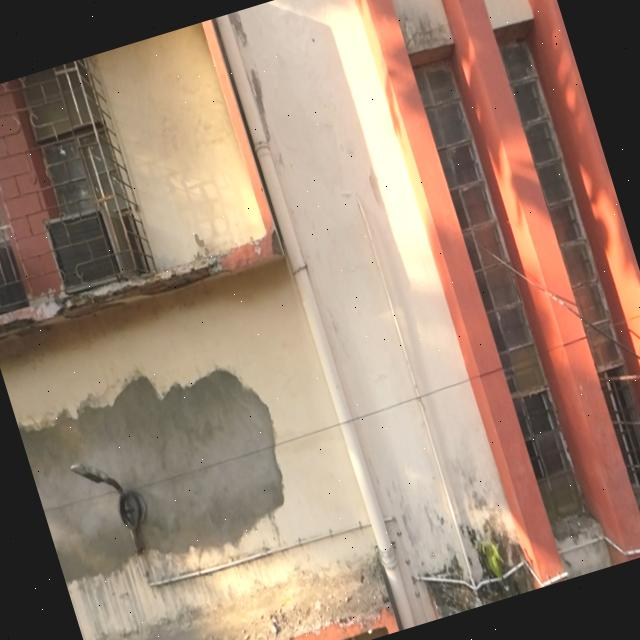spalling: (18, 369, 283, 581), (0, 229, 282, 337)
stain_mould: (423, 532, 534, 617)
